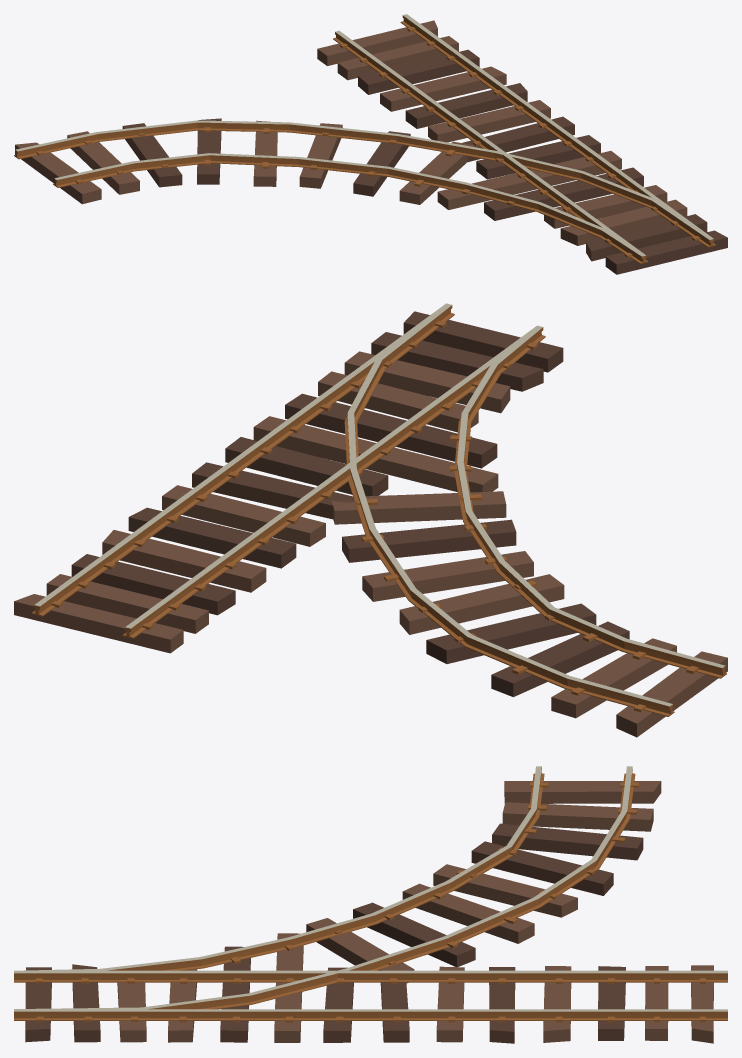
Rendered from Train Track 11 M Fork.glb.
3 views of the same model, one above another, from view 1: azimuth 30°, elevation 25°; view 2: azimuth 150°, elevation 25°; view 3: azimuth 270°, elevation 25° (orthographic). The views are drawn at different scales.
Parts seen in each view (by area): view 1: Train Track 11 M Fork; view 2: Train Track 11 M Fork; view 3: Train Track 11 M Fork.
Boxes of the visible parts, x1,y1,x2,y2 form: Train Track 11 M Fork: [14, 14, 727, 274]; Train Track 11 M Fork: [14, 303, 727, 737]; Train Track 11 M Fork: [14, 766, 727, 1043].
Size of what is drawn, in the model's own units: 9.39 by 0.3385 by 11.
1 material, 1 textured.
